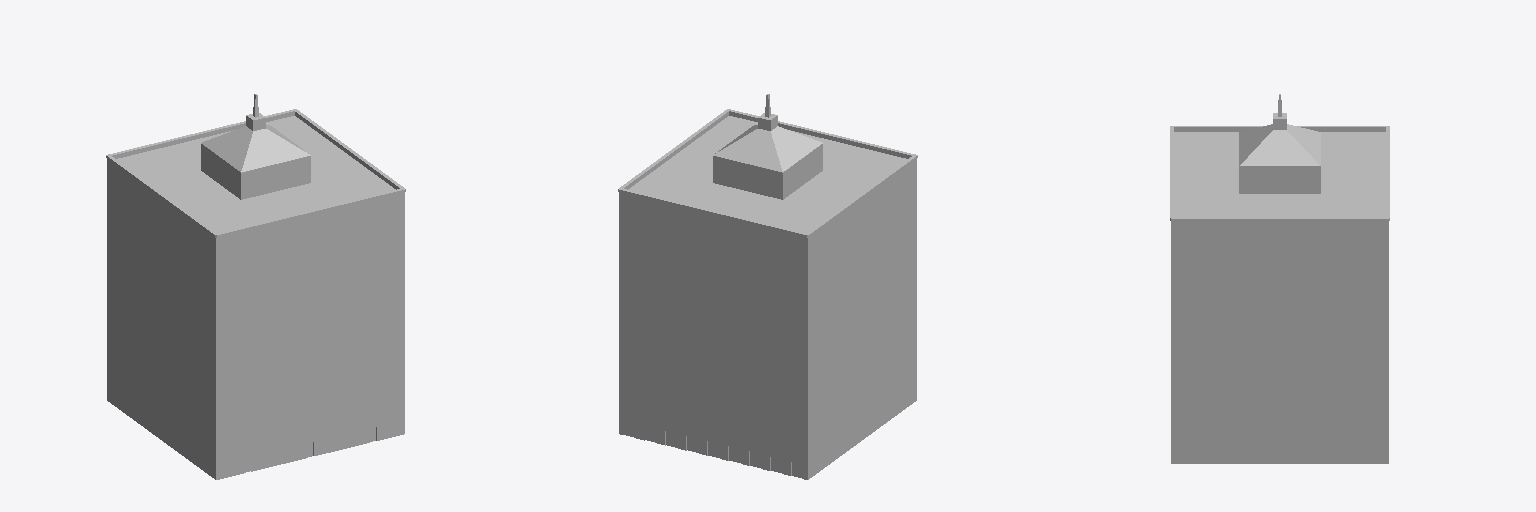
Rendered from skyscraper_e_embiggened.obj.
3 renders of one model, left to right at view 1: azimuth 30°, elevation 25°; view 2: azimuth 150°, elevation 25°; view 3: azimuth 270°, elevation 25°, orthographic.
Visible parts, largest first — view 1: skyscraperE.003, skyscraperE.004, skyscraperE.002, skyscraperE.005; view 2: skyscraperE.003, skyscraperE.004, skyscraperE.002, skyscraperE.005; view 3: skyscraperE.003, skyscraperE.004, skyscraperE.002, skyscraperE.005.
Boxes of the visible parts, x1,y1,x2,y2 form: skyscraperE.003: [107, 269, 404, 457]; skyscraperE.004: [107, 160, 404, 348]; skyscraperE.002: [106, 94, 405, 238]; skyscraperE.005: [107, 379, 404, 479]; skyscraperE.003: [619, 269, 916, 457]; skyscraperE.004: [619, 160, 916, 348]; skyscraperE.002: [618, 94, 917, 238]; skyscraperE.005: [619, 379, 916, 479]; skyscraperE.003: [1171, 332, 1388, 441]; skyscraperE.004: [1171, 223, 1388, 331]; skyscraperE.002: [1170, 94, 1389, 222]; skyscraperE.005: [1171, 442, 1388, 463].
Size of the model in its own units: 7.28 by 11.8 by 7.28.